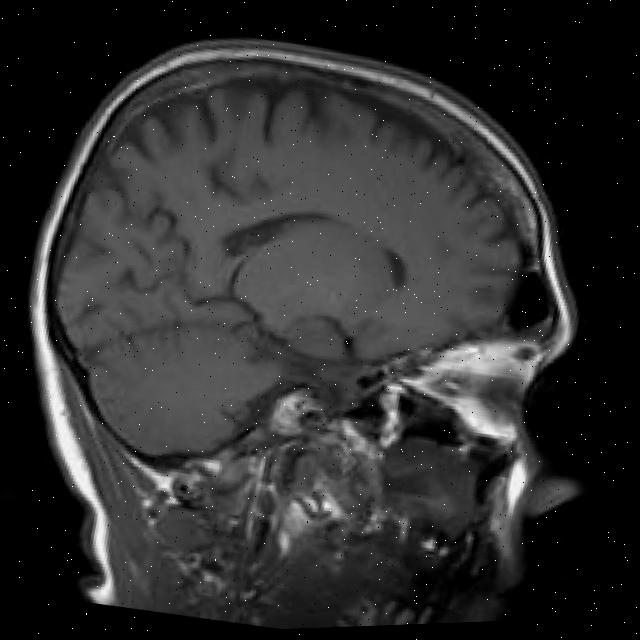NoTumor: (0, 0, 624, 531)
